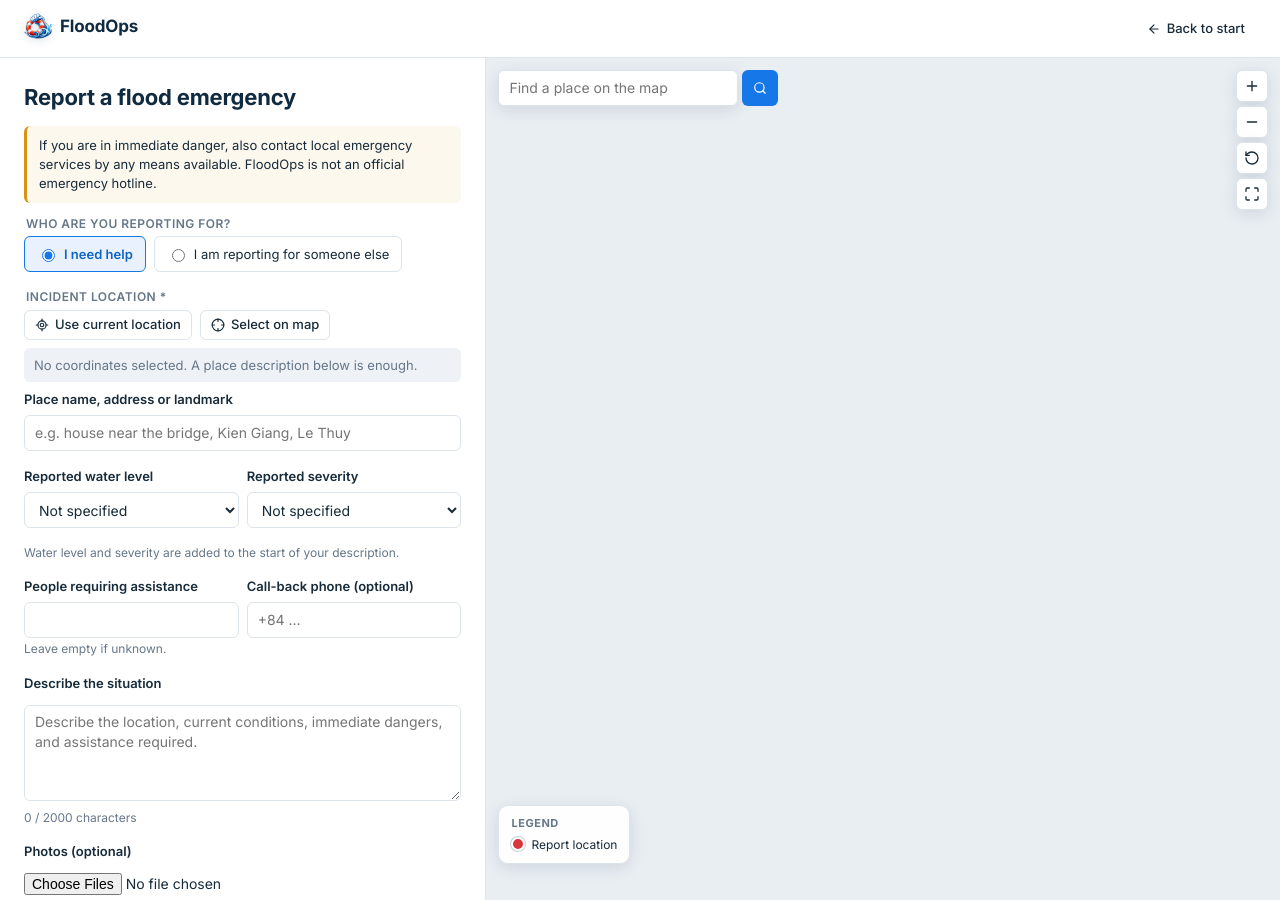
Test: ReportPage › shows success only with the ID returned by the server
The image size is (1280, 900).
In the field labelled "Place name, address or landmark": point(243, 433) x1=24 y1=415 x2=461 y2=451, type "Kien Giang"
(page scrolled)
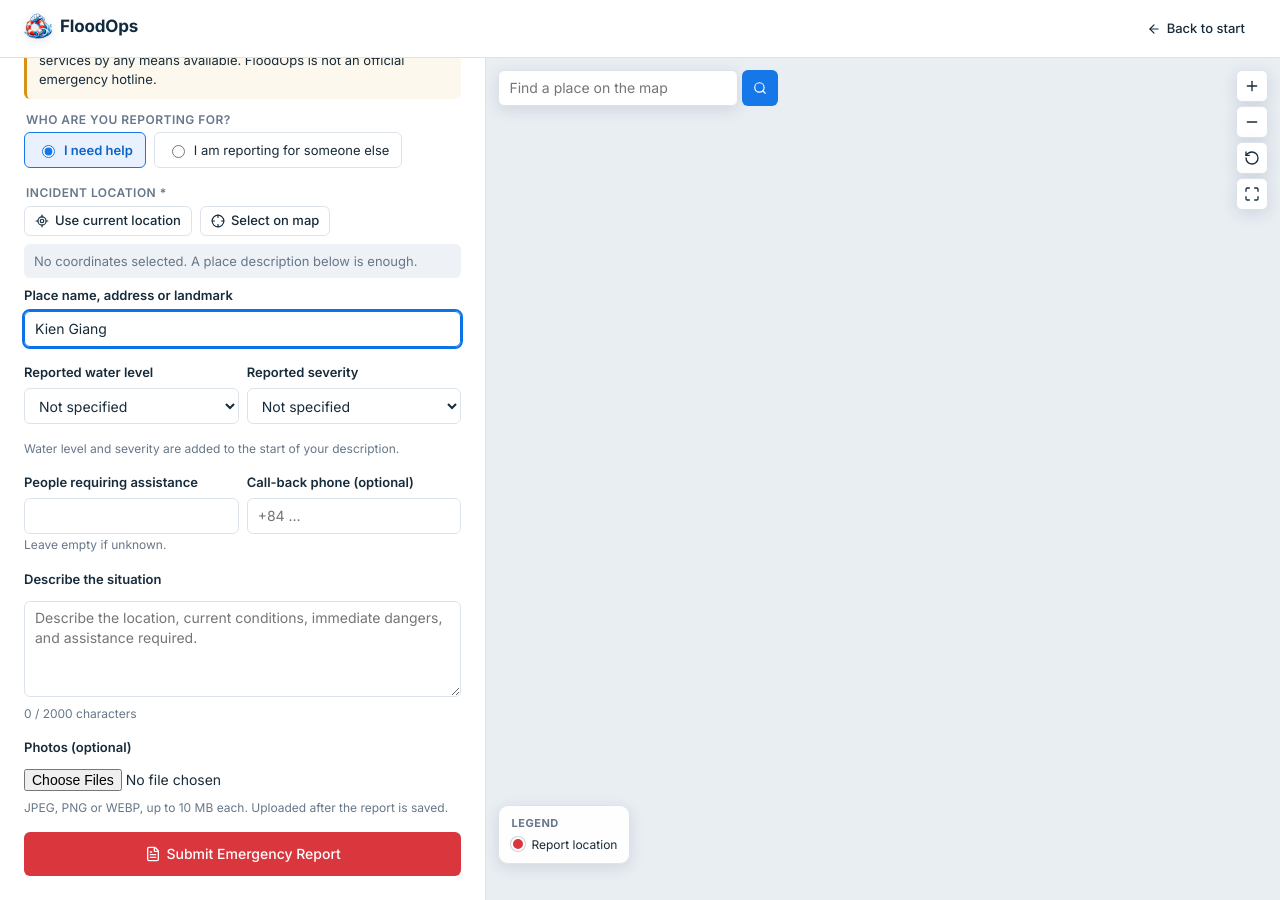
Click the button "Submit Emergency Report": point(243, 854) x1=24 y1=832 x2=461 y2=876
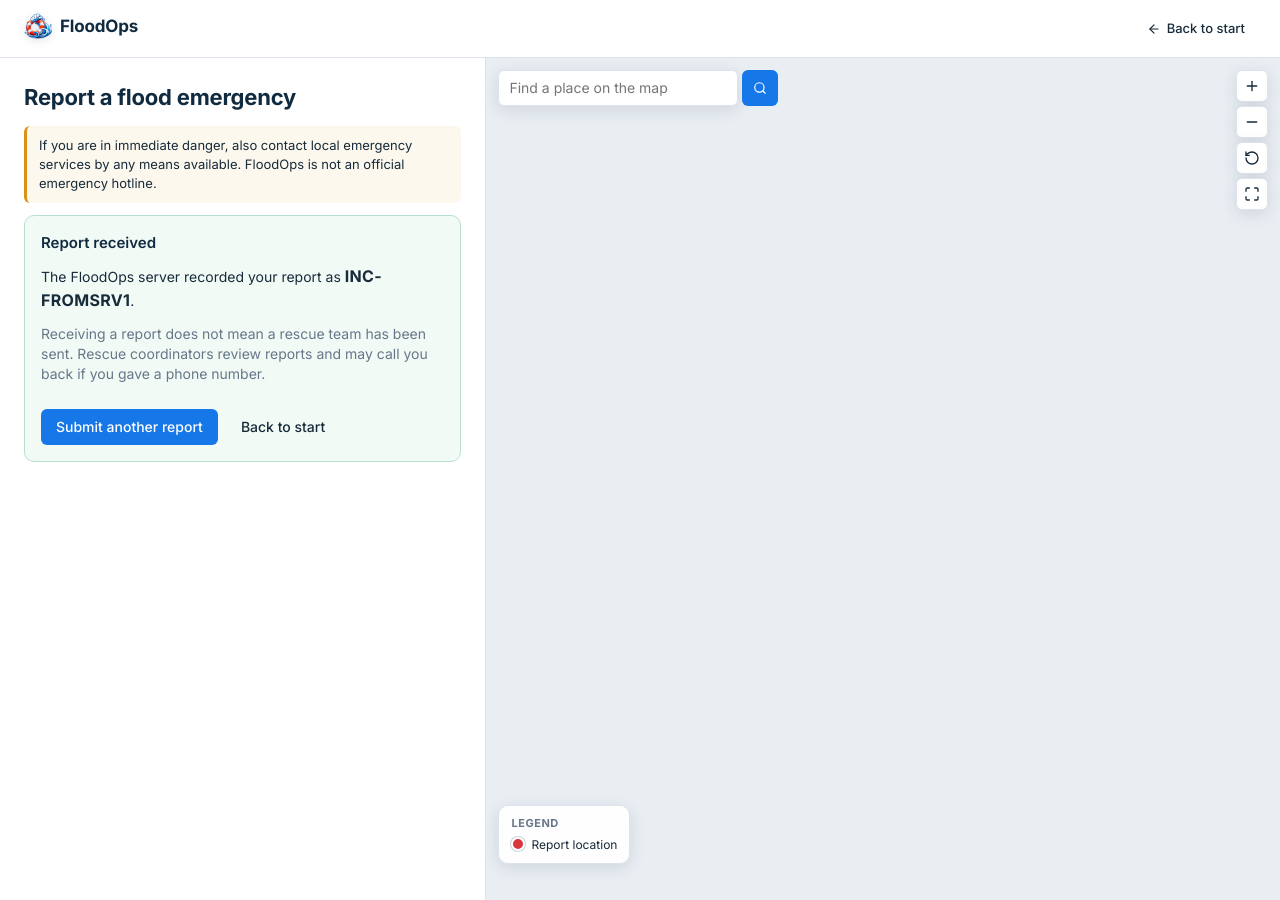
Expected: the text "INC-FROMSRV1" is shown, x1=41 y1=266 x2=382 y2=310
Expected: the text "does not mean a rescue team has been sent" is shown, x1=41 y1=325 x2=428 y2=382
